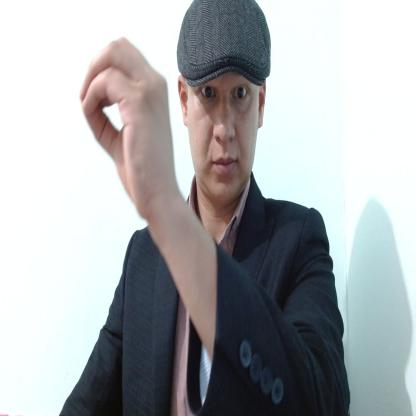O: (78, 35, 176, 217)
